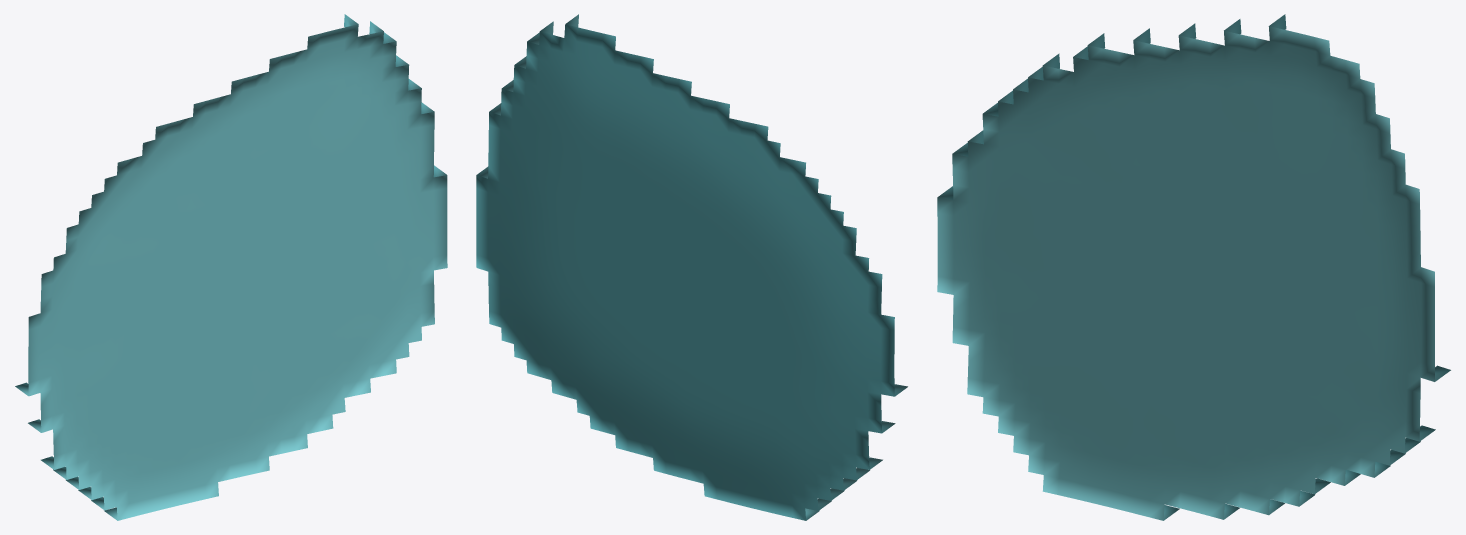
Rendered from PAIR-OFFLOAD-2ND-3RD_LEFT_addon.glb.
3 views of the same model, side by side, from view 1: azimuth 30°, elevation 25°; view 2: azimuth 150°, elevation 25°; view 3: azimuth 330°, elevation 25° (orthographic). The views are drawn at different scales.
Visible parts, largest first — view 1: geometry_0; view 2: geometry_0; view 3: geometry_0.
Boxes of the visible parts, x1,y1,x2,y2 form: geometry_0: (15,14,447,520); geometry_0: (476,14,907,520); geometry_0: (937,14,1450,520).
Bounding box in the file's own units: 33 × 33 × 2.66.
